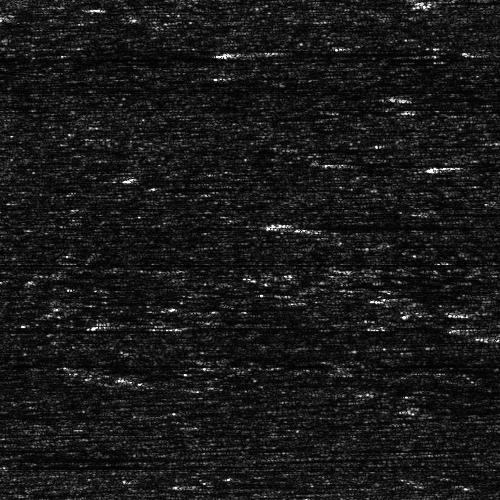rock: (403, 307, 500, 320), (408, 162, 500, 169), (196, 47, 279, 54), (260, 219, 323, 228), (379, 93, 442, 102), (368, 294, 421, 303), (0, 450, 35, 461), (119, 174, 160, 181), (135, 325, 188, 330), (471, 332, 500, 341), (449, 324, 500, 329), (400, 210, 453, 213), (0, 462, 25, 467)
shadow: (0, 450, 217, 461), (292, 219, 500, 228), (238, 47, 386, 54), (411, 93, 500, 102), (5, 462, 153, 467), (395, 294, 471, 303), (0, 325, 113, 330), (140, 174, 213, 181), (162, 325, 236, 330), (455, 162, 500, 169), (476, 307, 500, 320), (0, 101, 40, 108), (427, 210, 500, 213), (476, 324, 500, 329)
